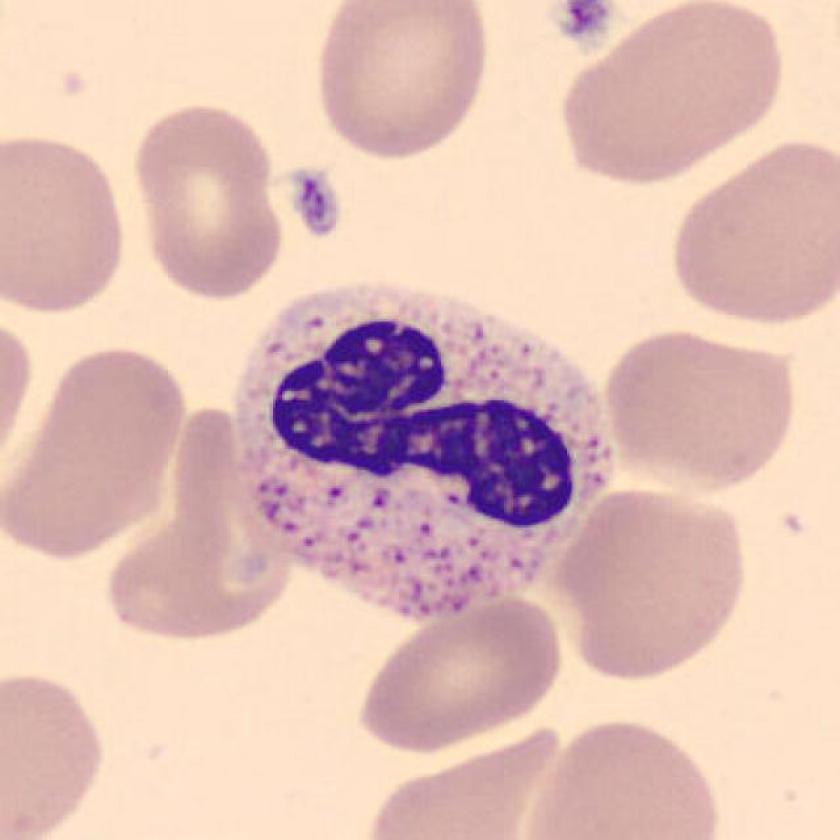neutrophil: (237, 287, 617, 618)
